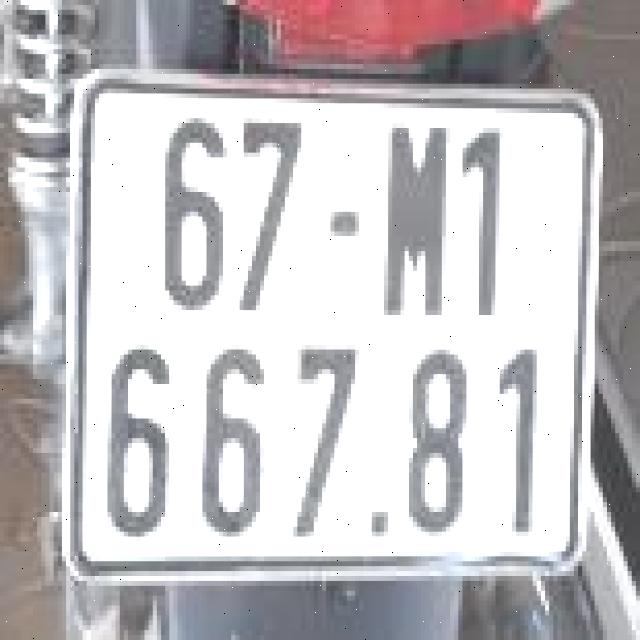1: (488, 340, 554, 556), (448, 118, 514, 325)
6: (192, 335, 275, 551), (147, 110, 233, 312), (99, 337, 182, 544)
7: (287, 332, 357, 549), (236, 103, 302, 315)
8: (398, 327, 481, 549)
M: (370, 108, 448, 330)
